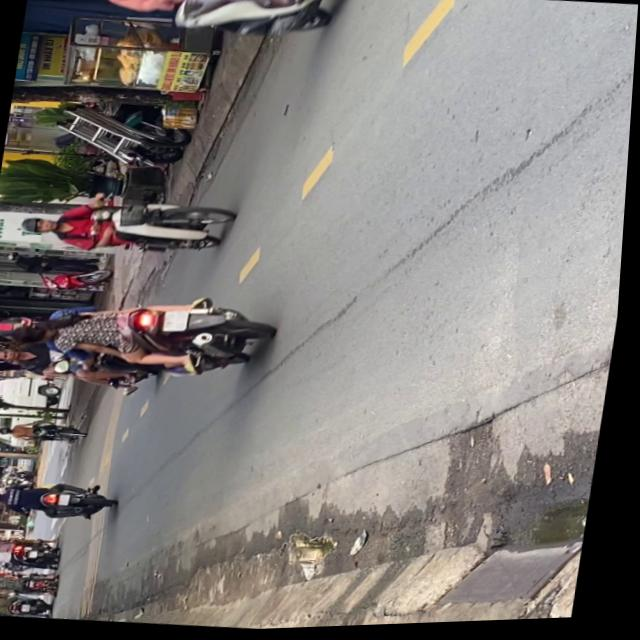helmet: (0, 312, 49, 344), (22, 213, 61, 235)
licenseplate: (0, 277, 283, 390), (17, 184, 239, 266), (43, 0, 358, 56)
motorcyclist: (15, 322, 63, 349), (0, 345, 30, 363)
nohelmet: (168, 310, 193, 333)
